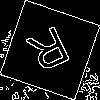R: (25, 25, 77, 82)
